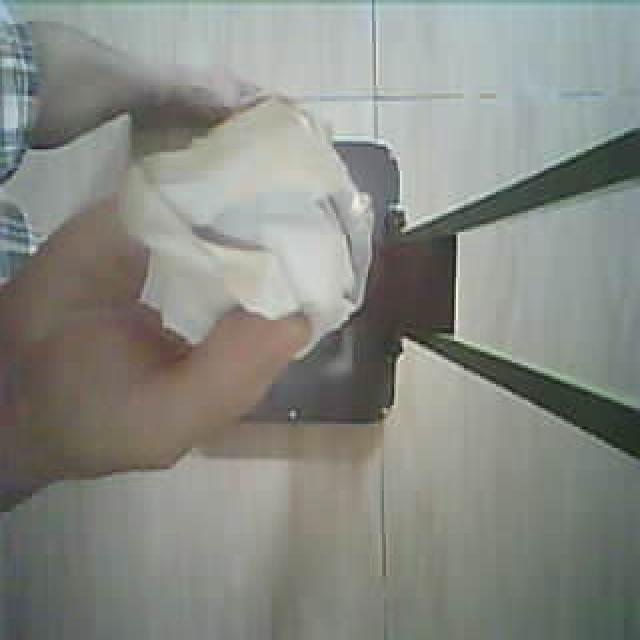Paper: (102, 70, 388, 377)
